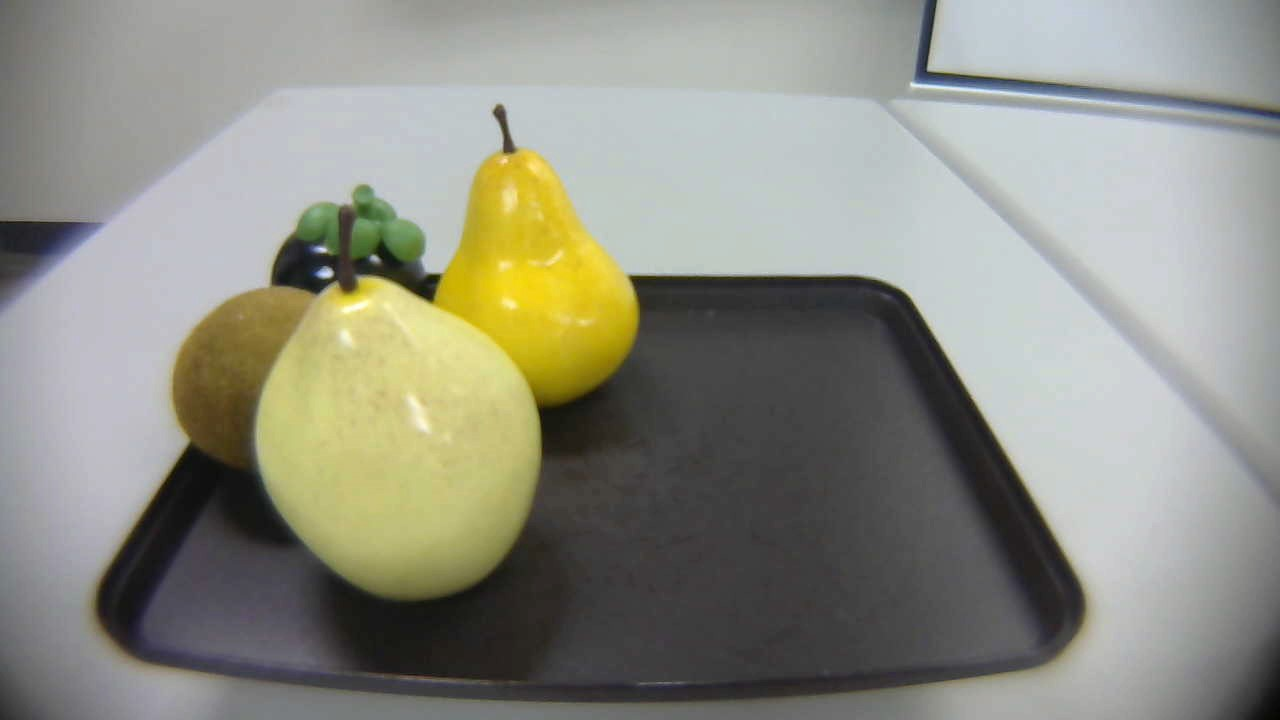kiwi fruit: (175, 288, 320, 479)
mangosteen: (261, 179, 433, 311)
western pear: (250, 204, 553, 613)
yellow pear: (430, 93, 653, 414)
